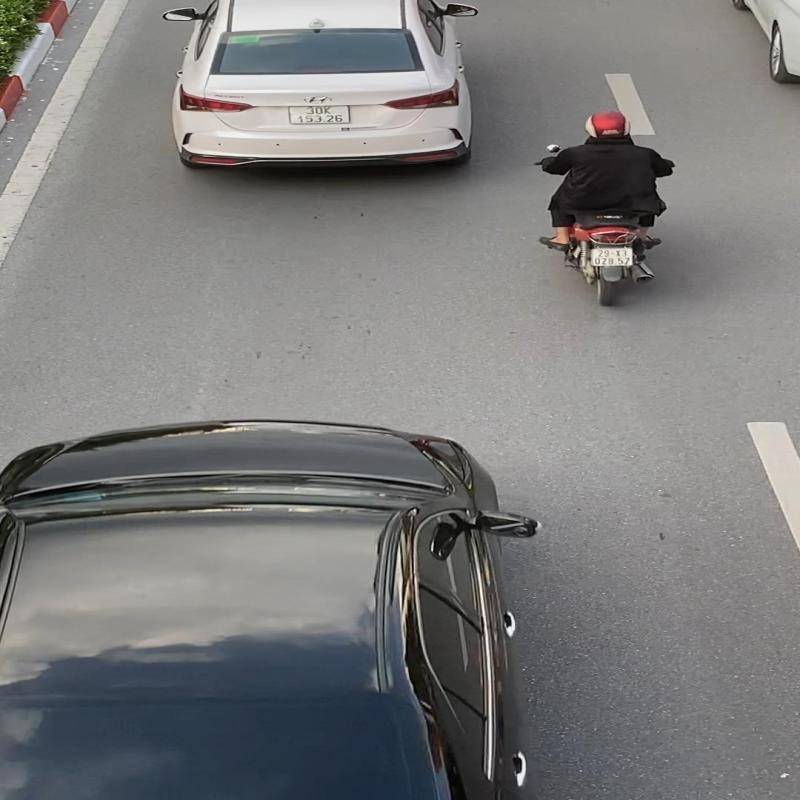helmet: (586, 112, 630, 138)
licenseplate: (590, 248, 633, 267)
motorcyclist: (520, 107, 680, 308)
